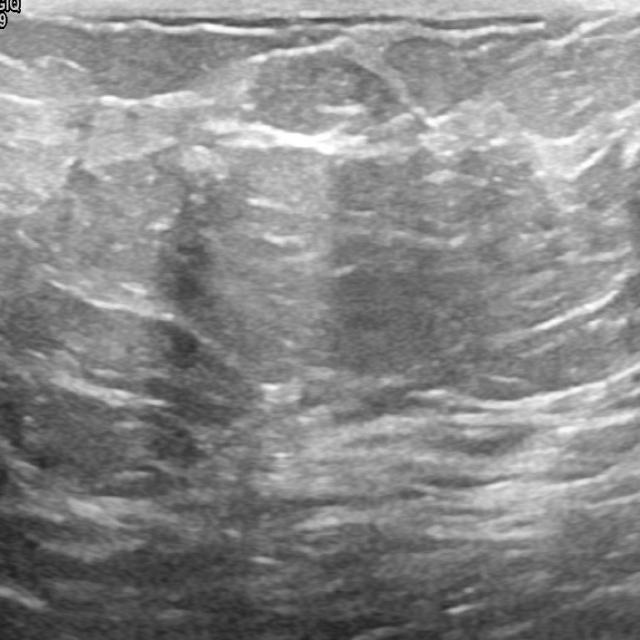Normal: (29, 39, 612, 610)
